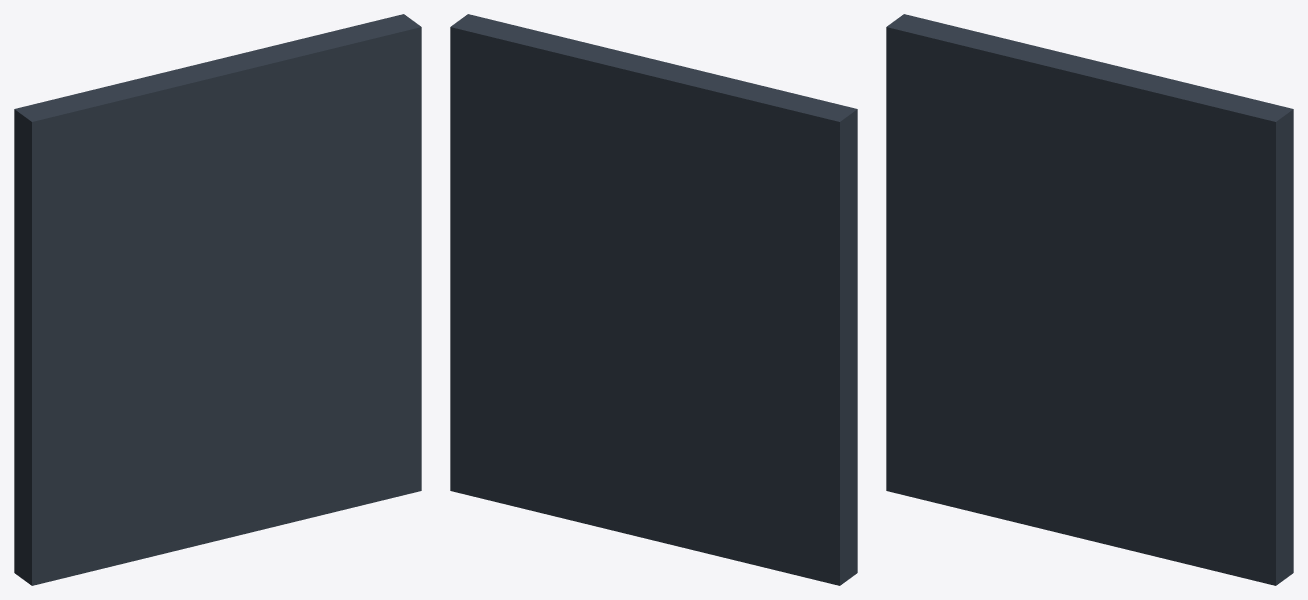
The model's file is crystalwall.fbx.
The picture shows the model from 3 angles, left to right: view 1: azimuth 30°, elevation 25°; view 2: azimuth 150°, elevation 25°; view 3: azimuth 330°, elevation 25°; orthographic projection.
Visible parts, largest first — view 1: crystalwall; view 2: crystalwall; view 3: crystalwall.
Part boxes in pixels (bbox=[...]): crystalwall: bbox=[14, 14, 421, 585]; crystalwall: bbox=[450, 14, 857, 585]; crystalwall: bbox=[886, 14, 1293, 585].
Size of the model in its own units: 2502 by 2846 by 197.
